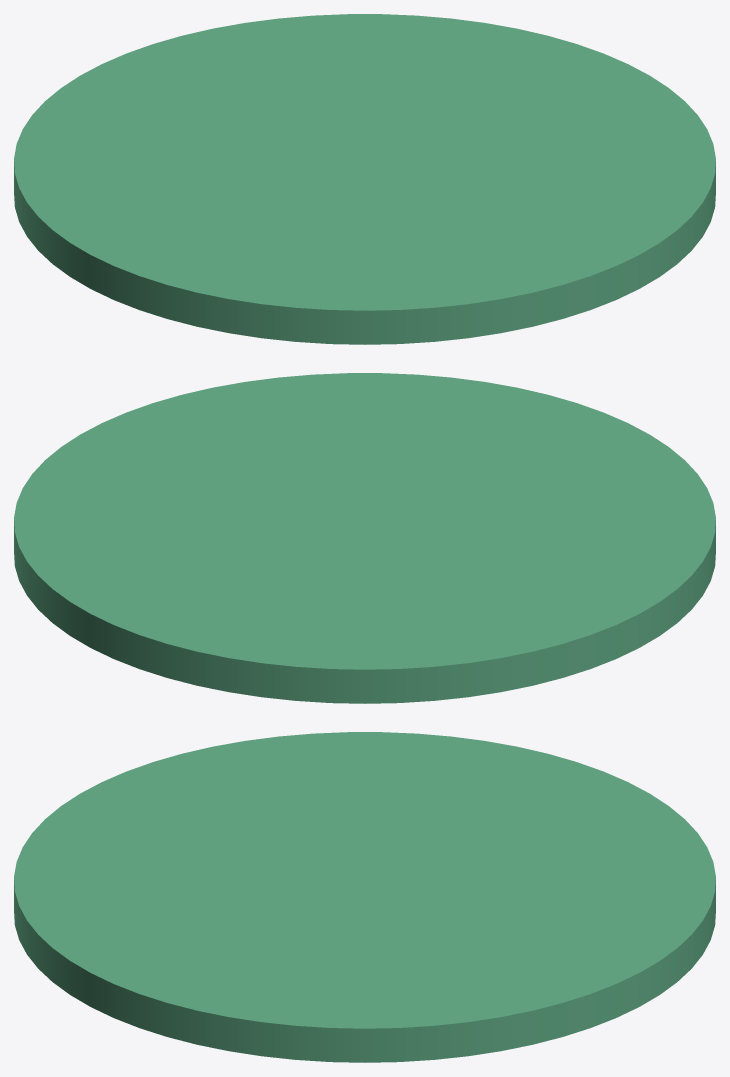
File: step_01.glb
The picture shows the model from 3 angles, top to bottom: view 1: azimuth 30°, elevation 25°; view 2: azimuth 150°, elevation 25°; view 3: azimuth 270°, elevation 25°; orthographic projection.
Visible parts, largest first — view 1: part__PRESS HERE button; view 2: part__PRESS HERE button; view 3: part__PRESS HERE button.
Boxes of the visible parts, box(x1,y1,x2,y2) form: part__PRESS HERE button: box(14, 14, 715, 344); part__PRESS HERE button: box(14, 373, 715, 703); part__PRESS HERE button: box(14, 732, 715, 1062).
Bounding box in the file's own units: 27.98 × 1.5 × 27.99.
